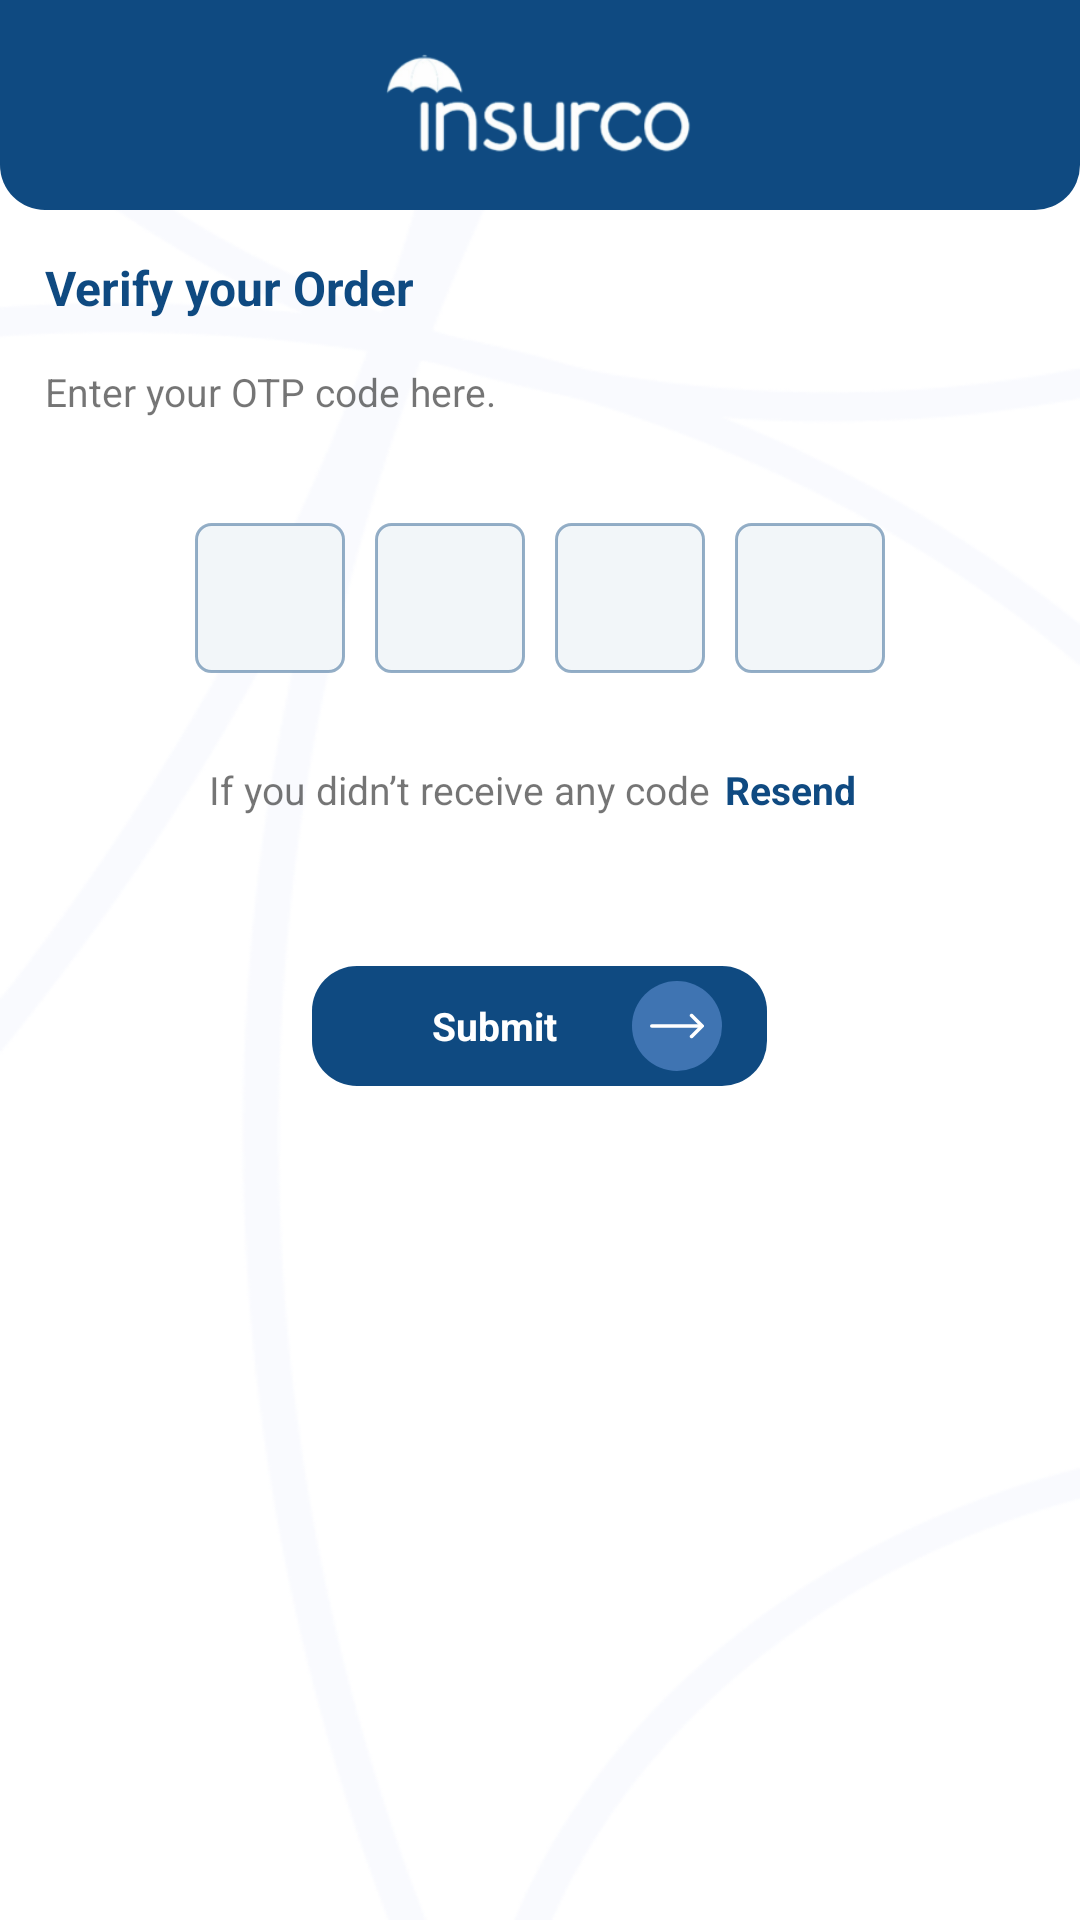

Point at icon controls on the screen. Image size 1080px×1920px, points as (x,y).
next: (677,1026)
